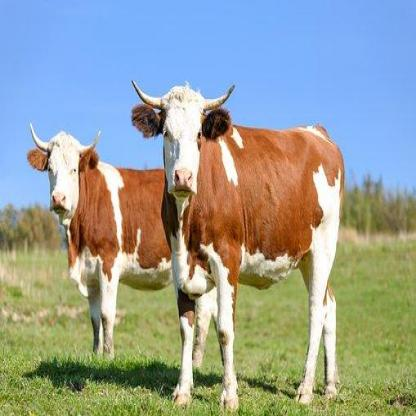cow: (132, 88, 344, 403), (29, 131, 165, 360)
